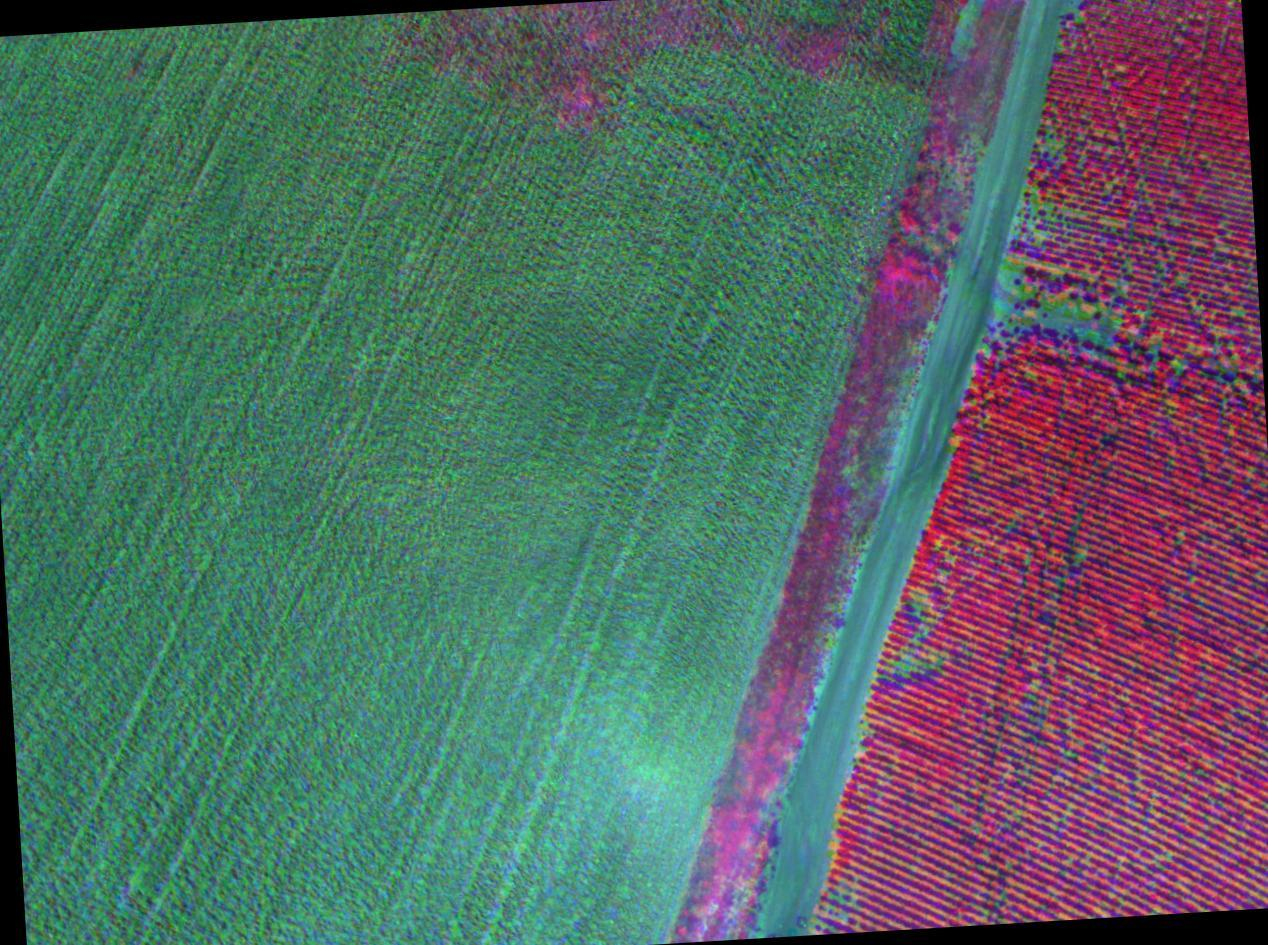dc: (902, 659, 912, 669), (1103, 321, 1114, 330), (1063, 309, 1070, 319), (1177, 363, 1185, 371), (1075, 554, 1083, 560), (946, 556, 953, 561), (1163, 856, 1169, 861), (921, 624, 927, 628)
